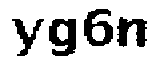6: (81, 6, 115, 51)
g: (47, 15, 79, 60)
n: (117, 15, 152, 51)
y: (9, 16, 46, 60)
